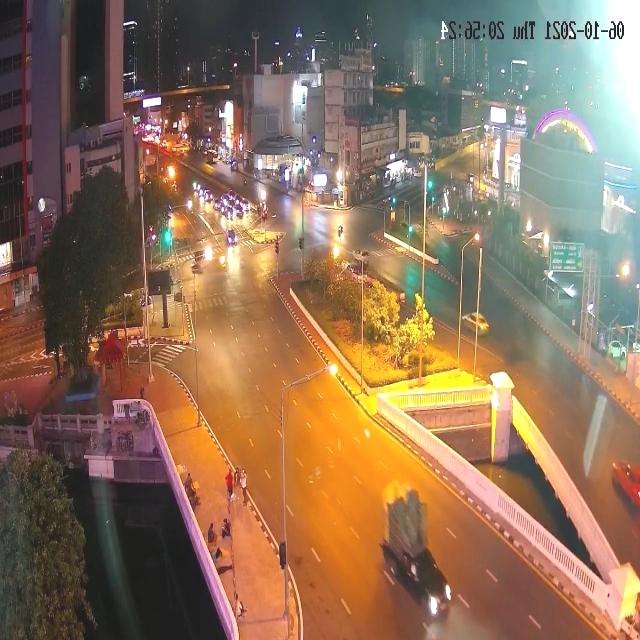Car: (611, 460, 640, 510), (608, 303, 640, 336), (461, 311, 491, 338), (344, 260, 371, 285), (468, 172, 488, 198), (356, 174, 377, 198), (606, 340, 626, 362), (392, 289, 406, 305), (214, 197, 227, 214), (226, 228, 238, 246), (204, 148, 218, 163), (237, 196, 250, 212), (308, 148, 319, 166), (411, 221, 425, 235), (506, 194, 520, 208), (233, 202, 245, 218), (403, 164, 415, 180), (230, 193, 242, 208), (384, 169, 394, 186), (424, 156, 436, 170), (223, 205, 234, 220), (204, 189, 214, 205), (413, 166, 422, 178), (398, 220, 409, 229), (468, 174, 474, 186), (161, 138, 168, 148), (480, 141, 485, 150)
Truck: (378, 484, 452, 615)
